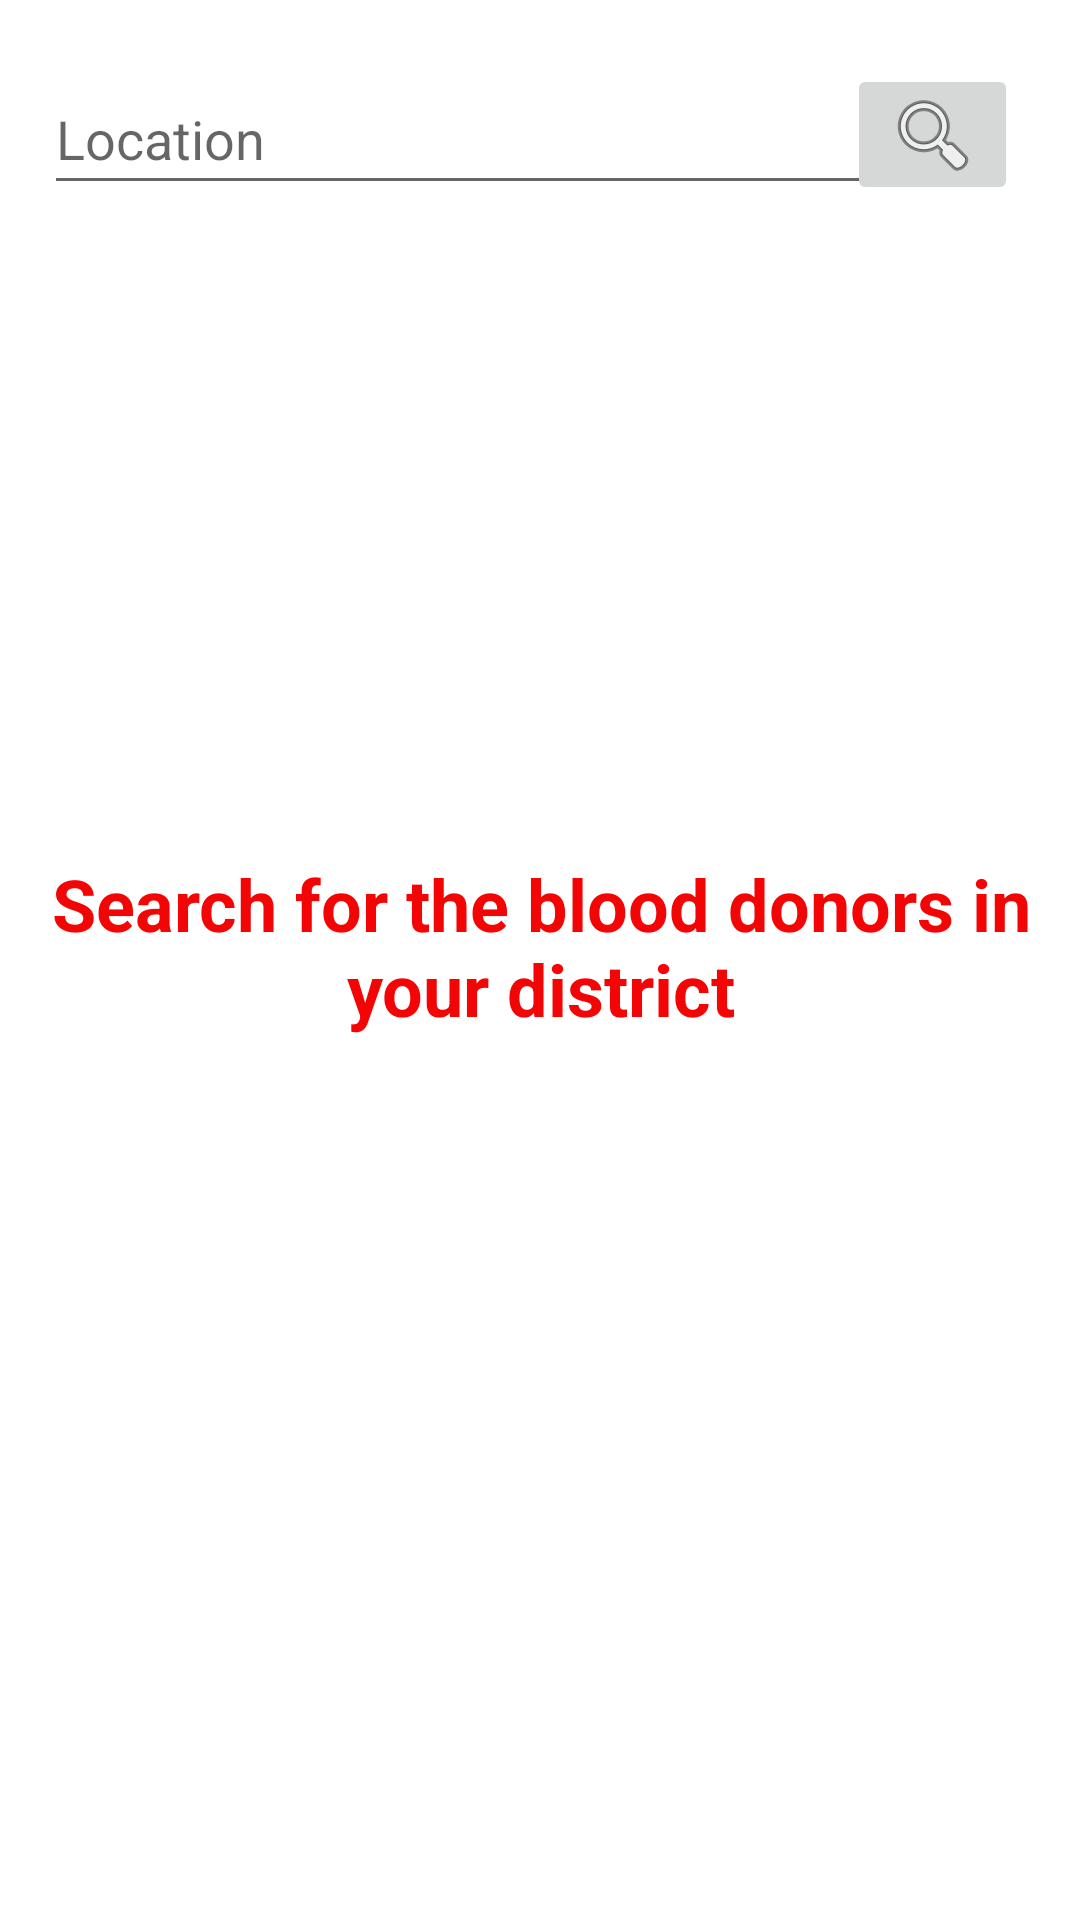

Screen size 1080×1920. Icon name, then its center in pixels as [x,y]:
search: [926,134]
